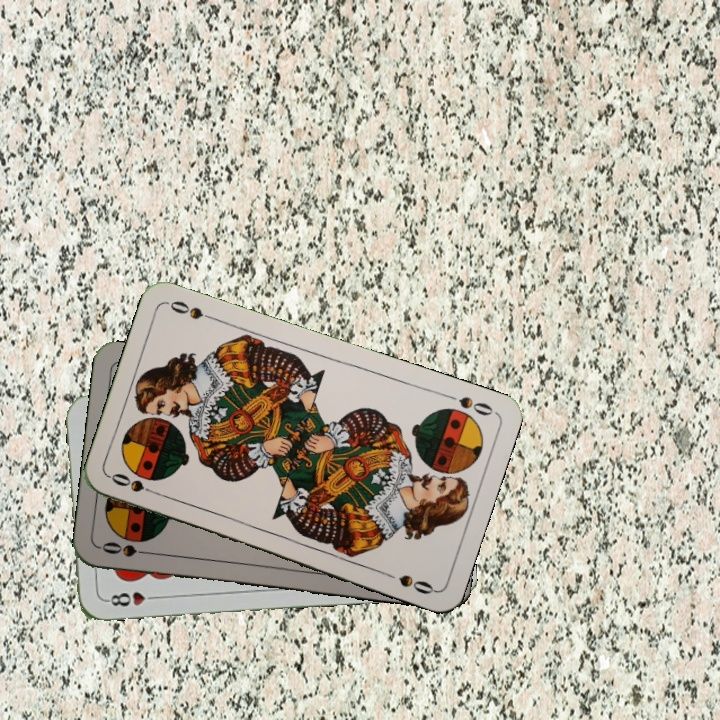H8: (102, 588, 161, 609)
SO: (107, 469, 164, 499), (440, 389, 496, 419), (97, 538, 156, 559)
